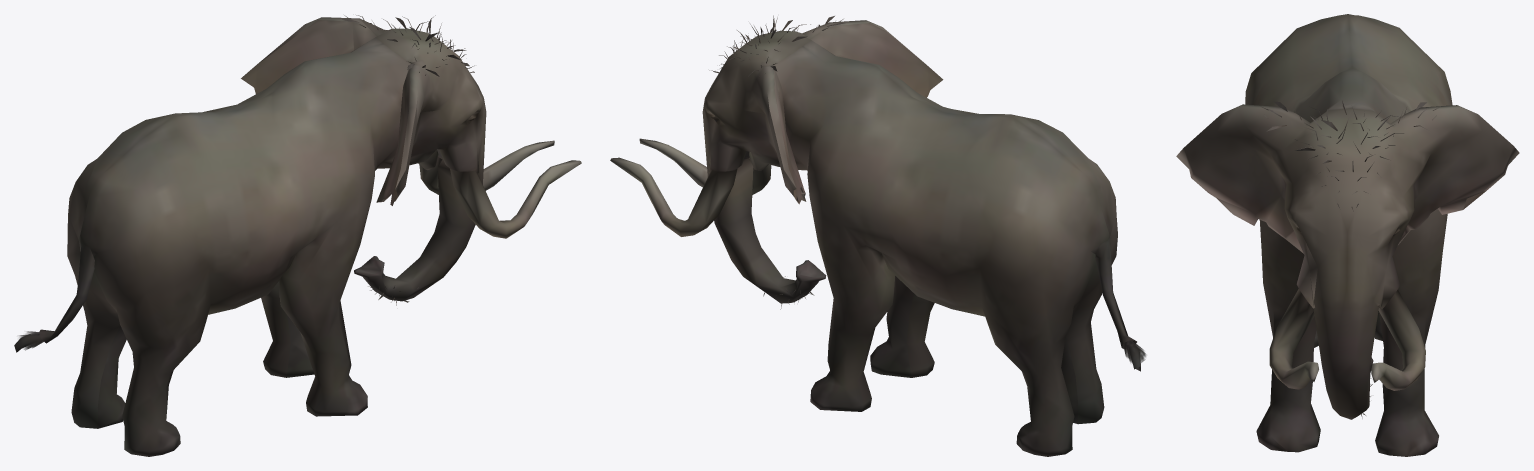
The picture shows the model from 3 angles, left to right: view 1: azimuth 30°, elevation 25°; view 2: azimuth 150°, elevation 25°; view 3: azimuth 270°, elevation 25°; orthographic projection. The views are drawn at different scales.
Parts seen in each view (by area): view 1: Object_7; view 2: Object_7; view 3: Object_7.
Boxes of the visible parts, x1,y1,x2,y2 form: Object_7: [14, 15, 581, 456]; Object_7: [610, 15, 1146, 456]; Object_7: [1176, 14, 1519, 456].
Bounding box in the file's own units: 148 × 88.32 × 71.81.
1 material, 1 textured.
